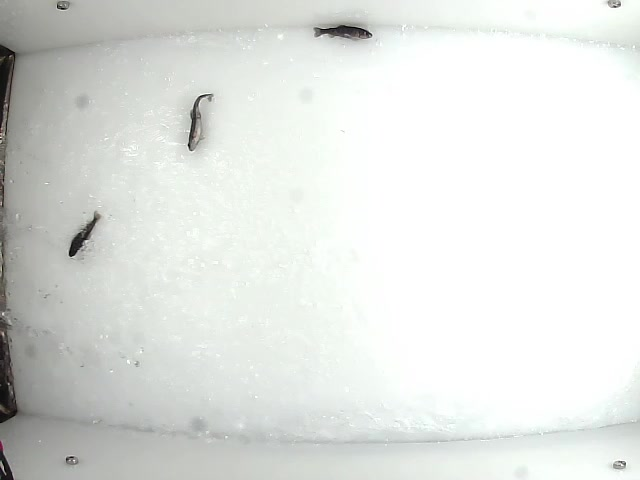fish: (184, 91, 219, 154), (65, 210, 101, 261), (310, 22, 373, 44)
